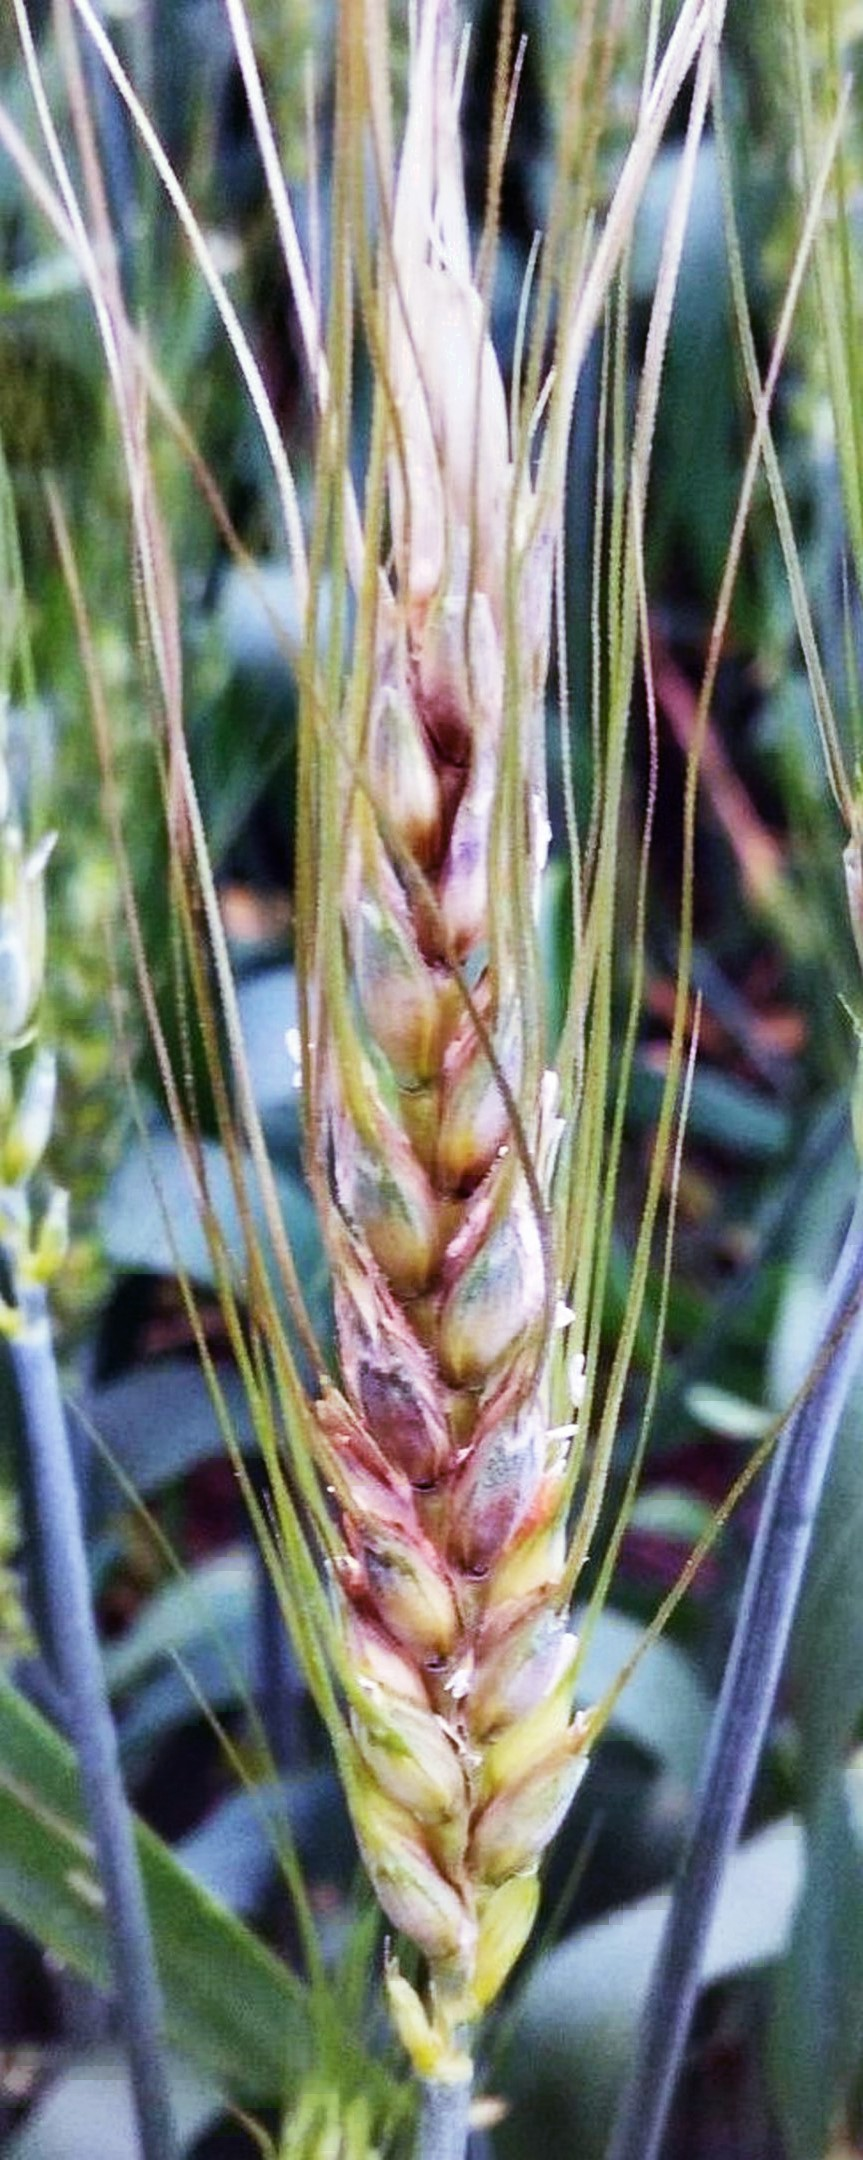Wheat scab: (245, 289, 664, 2022)
